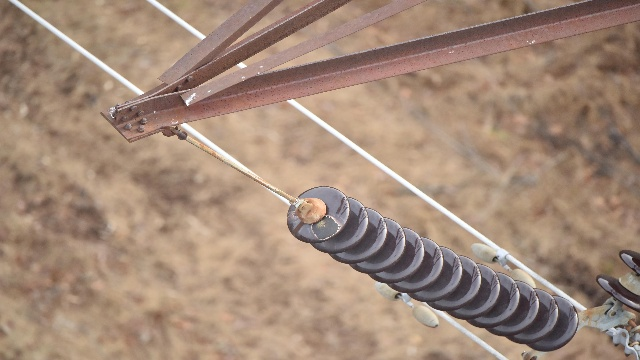insulator_unspecified: (285, 187, 578, 351), (598, 246, 639, 313)
pollution_flashover_local: (308, 215, 340, 241)
